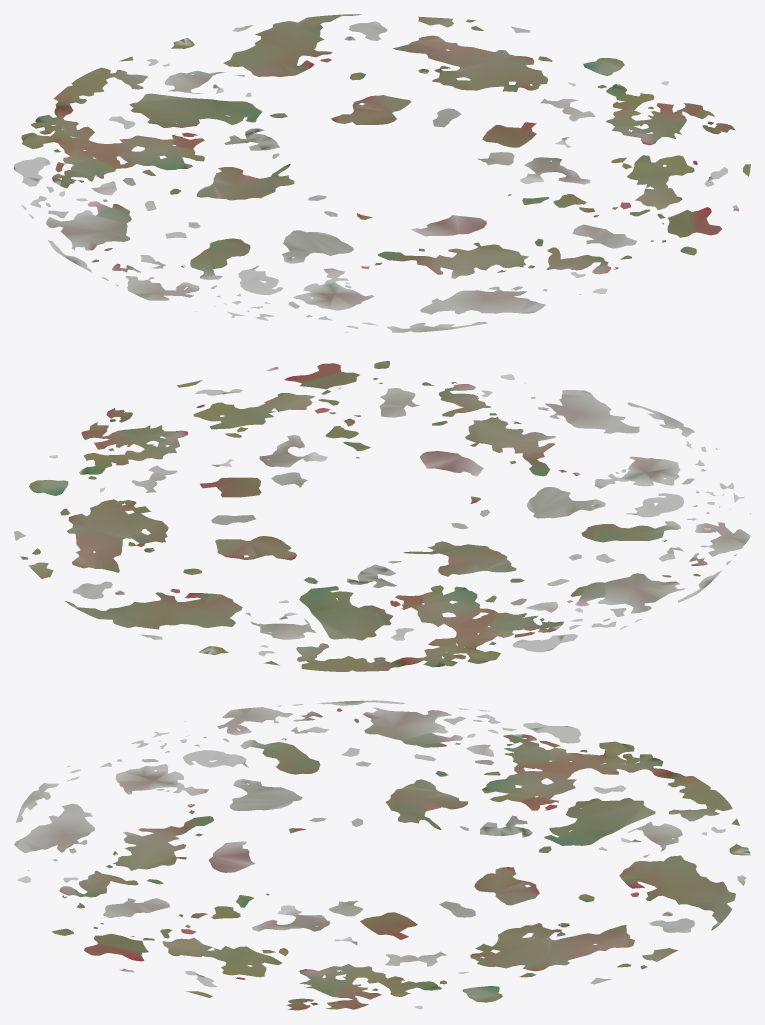
The model's file is clouds2.fbx.
3 renders of one model, top to bottom at view 1: azimuth 30°, elevation 25°; view 2: azimuth 150°, elevation 25°; view 3: azimuth 270°, elevation 25°, orthographic.
Parts seen in each view (by area): view 1: cliffrock_generator59.061; view 2: cliffrock_generator59.061; view 3: cliffrock_generator59.061.
Boxes of the visible parts, x1,y1,x2,y2 form: cliffrock_generator59.061: (14, 14, 750, 332); cliffrock_generator59.061: (14, 361, 750, 671); cliffrock_generator59.061: (14, 700, 750, 1010).
Size of the model in its own units: 56751 by 0 by 57010.
